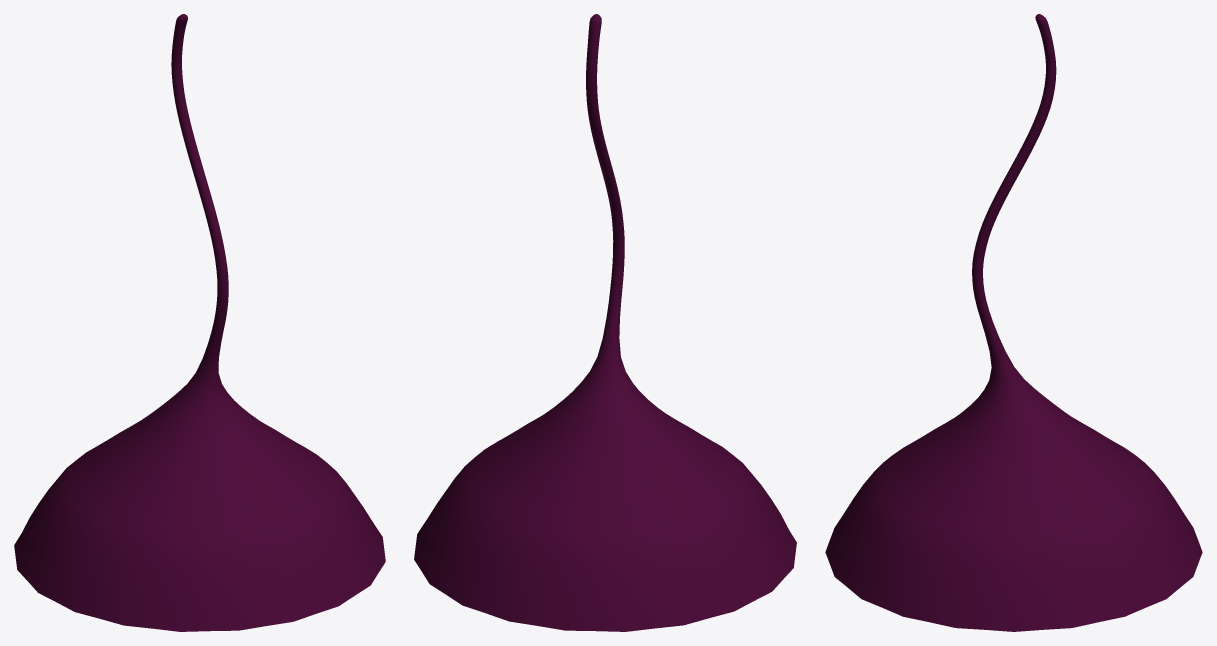
File: Steel_06.fbx
The picture shows the model from 3 angles, left to right: view 1: azimuth 30°, elevation 25°; view 2: azimuth 150°, elevation 25°; view 3: azimuth 270°, elevation 25°; orthographic projection. The views are drawn at different scales.
Visible parts, largest first — view 1: pCylinder2; view 2: pCylinder2; view 3: pCylinder2.
Boxes of the visible parts, box(x1,y1,x2,y2) form: pCylinder2: box(14, 14, 385, 631); pCylinder2: box(414, 14, 796, 631); pCylinder2: box(825, 14, 1202, 631).
Size of the model in its own units: 4.68 by 7.34 by 4.68.
